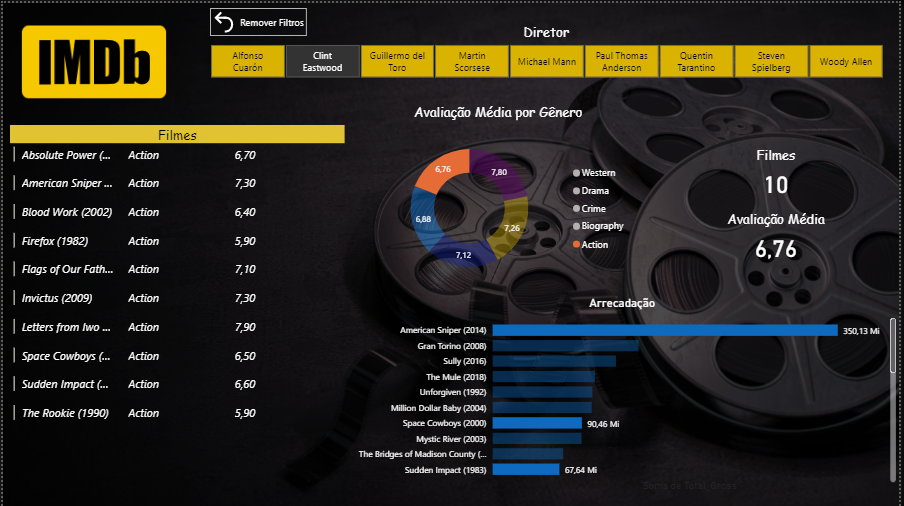

The dashboard page shown, as its layout file describes it:
{"tool":"powerbi","page":{"name":"Página 1","canvas":[1280,720],"ordinal":0},"visuals":[{"type":"multiRowCard","title":"Filmes","fields":{"Values":["imdb_threshed.Movie_Title","imdb_threshed.main_genre","imdb_threshed.Rating"]},"box":[10.1,174.2,478.1,545.8],"z":0},{"type":"slicer","title":"Diretor","fields":{"Values":["imdb_threshed.Director"]},"box":[270.7,27.4,1009.4,86.4],"z":1000},{"type":"barChart","title":"Arrecadação","fields":{"Y":["imdb_threshed.Total_Gross"],"Category":["imdb_threshed.Movie_Title"]},"box":[488.2,419,792,283.7],"z":2000},{"type":"donutChart","title":"Avaliação Média por Gênero","fields":{"Category":["imdb_threshed.main_genre"],"Y":["imdb_threshed.Mean Rating"]},"box":[514,141.1,386.4,277.2],"z":3000},{"type":"card","title":"Filmes","fields":{"Values":["imdb_threshed.Number of Movies"]},"box":[928.8,239,351.4,80.6],"z":4000},{"type":"image","box":[10.1,27.4,239,113.8],"z":5000},{"type":"actionButton","box":[295.2,7.2,138.2,40.3],"z":6000},{"type":"card","title":"Avaliação Média","fields":{"Values":["imdb_threshed.Mean Rating"]},"box":[928.8,338.4,351.4,80.6],"z":7000},{"type":"card","fields":{"Values":["Parâmetro.Selected Director"]},"box":[969.1,154.1,269.3,85],"z":8000}]}

Visuals, with their boxes in screenshot pixels (x1, y1, x2, y2), scaled from the page's 1280x720 canvas onto the 904x506 screenshot:
"Filmes" multiRowCard: (7,122,345,505)
"Diretor" slicer: (191,19,903,80)
"Arrecadação" barChart: (345,294,903,494)
"Avaliação Média por Gênero" donutChart: (363,99,636,294)
"Filmes" card: (656,168,903,225)
image: (7,19,176,99)
actionButton: (208,5,306,33)
"Avaliação Média" card: (656,238,903,294)
card - Parâmetro.Selected Director: (684,108,875,168)
